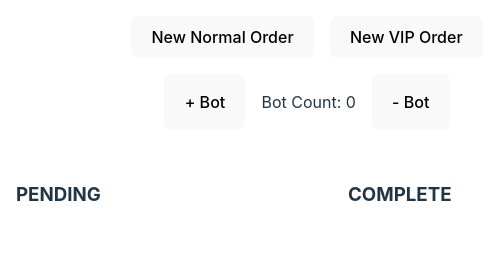
Scenario: McDonald's Order Controller › Main UI › adds a new VIP order to the PENDING area
What coordinates should you click on to do the following:
click the button "New VIP Order"
I would click on:
 (406, 37)
Its box is [330,16,483,58].
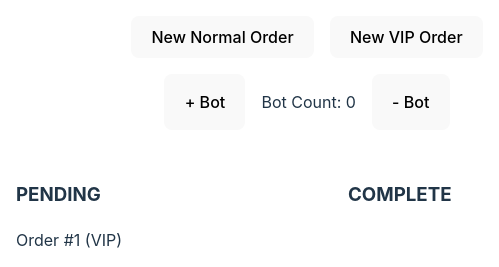
Result: the text "Order #1 (VIP)" is shown at [16,230,122,250]
